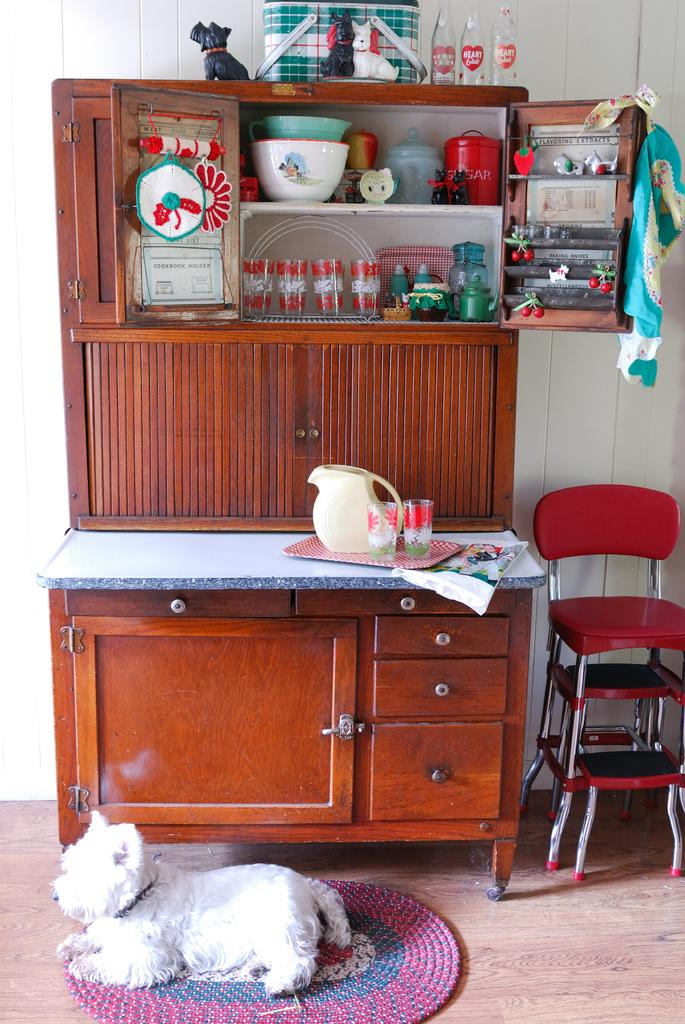cabinet_door: (73, 620, 358, 804), (120, 92, 240, 320), (516, 108, 622, 320), (373, 725, 503, 812), (87, 584, 284, 630), (302, 593, 514, 630), (378, 660, 502, 718), (376, 618, 512, 652)
handle: (430, 752, 448, 798), (395, 588, 420, 618), (430, 624, 454, 652), (434, 676, 452, 708), (168, 592, 188, 620)
